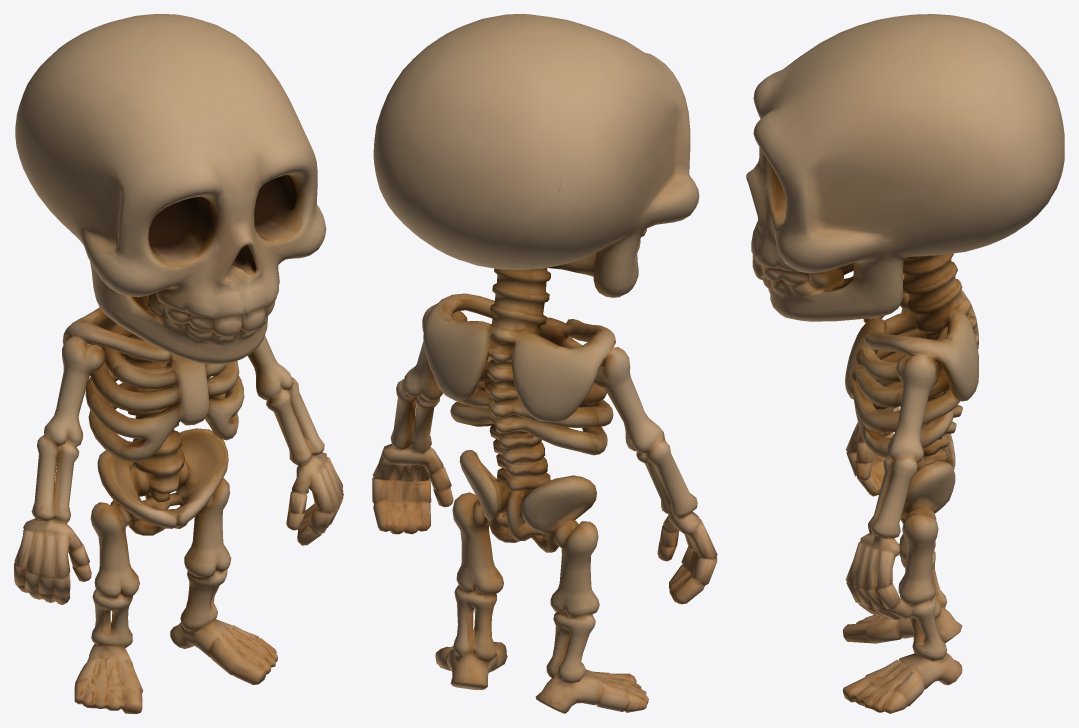
The model's file is Ginger The Skull.glb.
3 renders of one model, left to right at view 1: azimuth 30°, elevation 25°; view 2: azimuth 150°, elevation 25°; view 3: azimuth 270°, elevation 25°, orthographic. The views are drawn at different scales.
Parts seen in each view (by area): view 1: texture_pbr_v128_0; view 2: texture_pbr_v128_0; view 3: texture_pbr_v128_0.
Boxes of the visible parts, bbox=[...] form: texture_pbr_v128_0: bbox=[14, 14, 343, 713]; texture_pbr_v128_0: bbox=[372, 14, 717, 713]; texture_pbr_v128_0: bbox=[746, 14, 1064, 713].
Size of the model in its own units: 0.6176 by 1.15 by 0.5204.
Materials: 1 (1 with a texture image).
